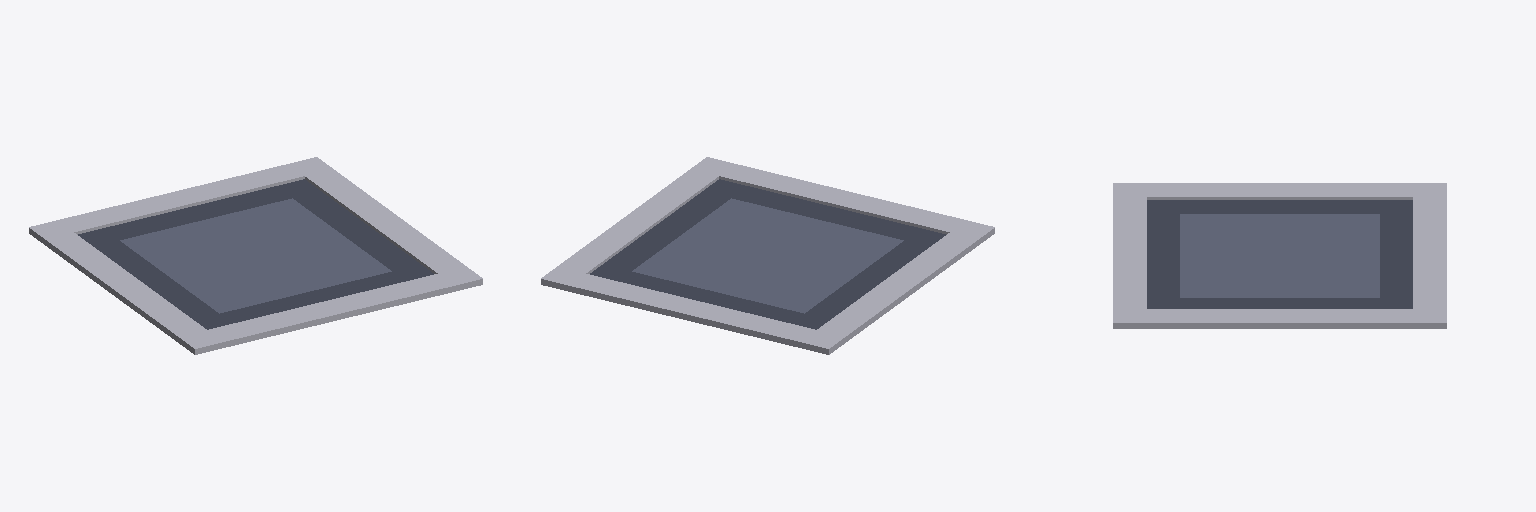
The model's file is road_square.obj.
3 views of the same model, side by side, from view 1: azimuth 30°, elevation 25°; view 2: azimuth 150°, elevation 25°; view 3: azimuth 270°, elevation 25° (orthographic).
Parts seen in each view (by area): view 1: road_square; view 2: road_square; view 3: road_square.
Part boxes in pixels (left/top/right/bottom): road_square: left=29, top=157, right=482, bottom=354; road_square: left=541, top=157, right=994, bottom=354; road_square: left=1113, top=183, right=1446, bottom=328.
Size of the model in its own units: 1 by 0.02 by 1.